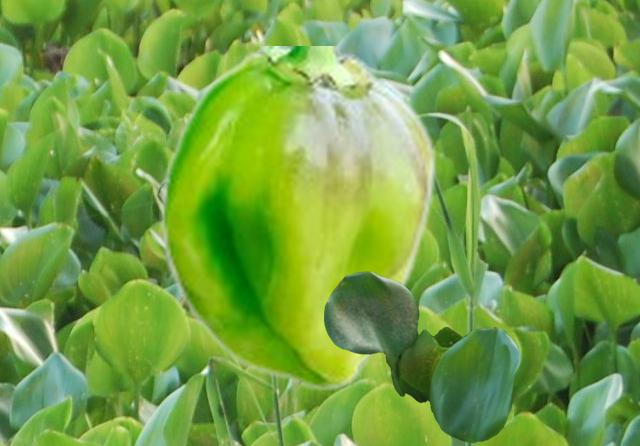green_chili: (159, 46, 437, 391)
